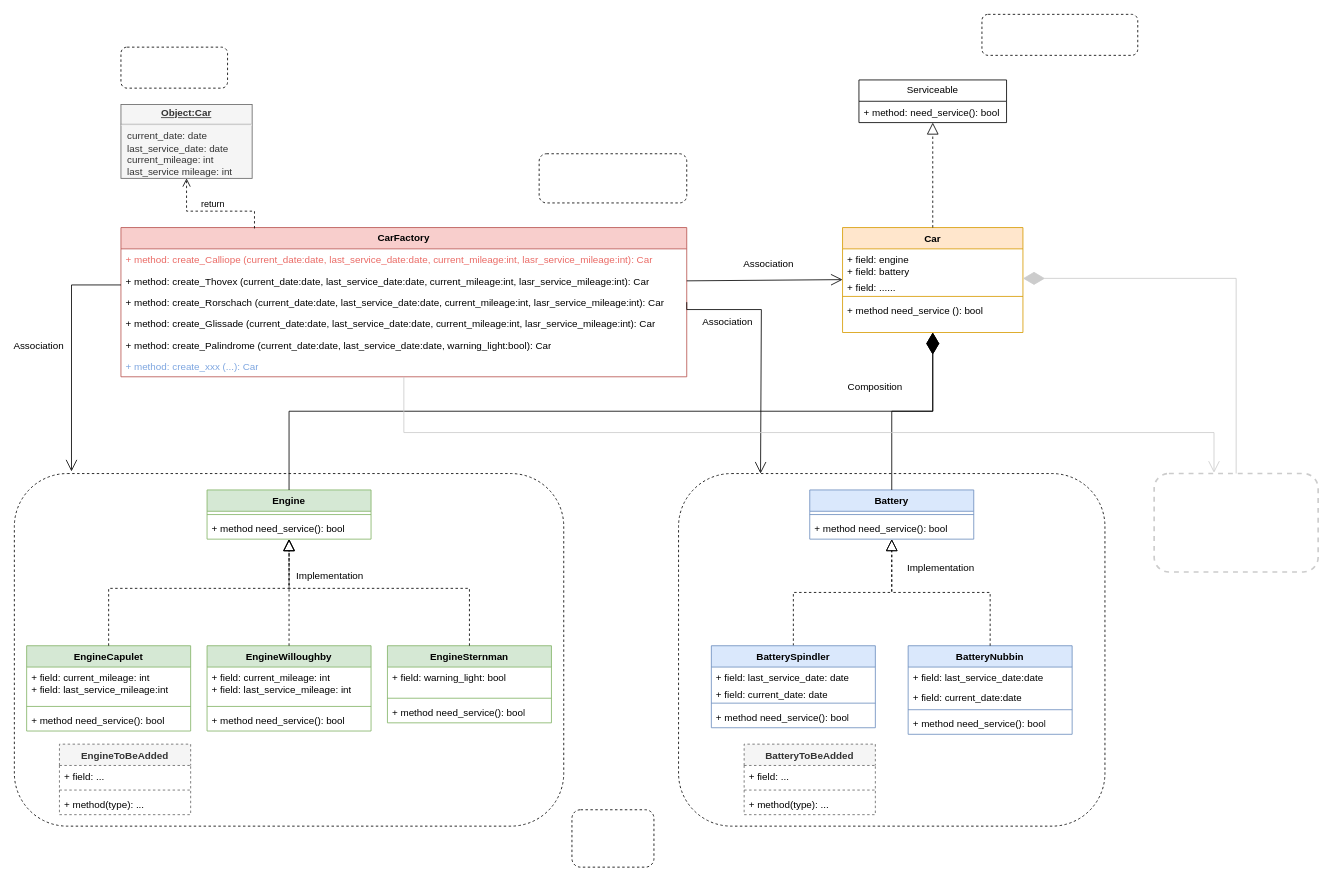
Image size: 1333x882. Some labels were removed from this diagram. Each missing label, with the centre of its shape:
add new independently as needed: pixel 612 838
add parts independently as needed: pixel 1236 522
change car attributes by accessing CarFactory's corresponding method: pixel 612 178
Example Creating a car object: pixel 174 67
«cars are accessed through interface» Serviceable: pixel 1059 34
